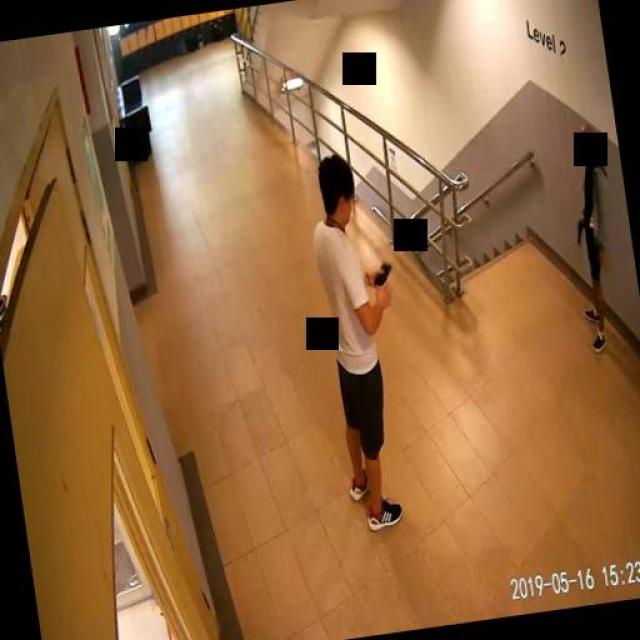gun: (574, 214, 586, 246)
